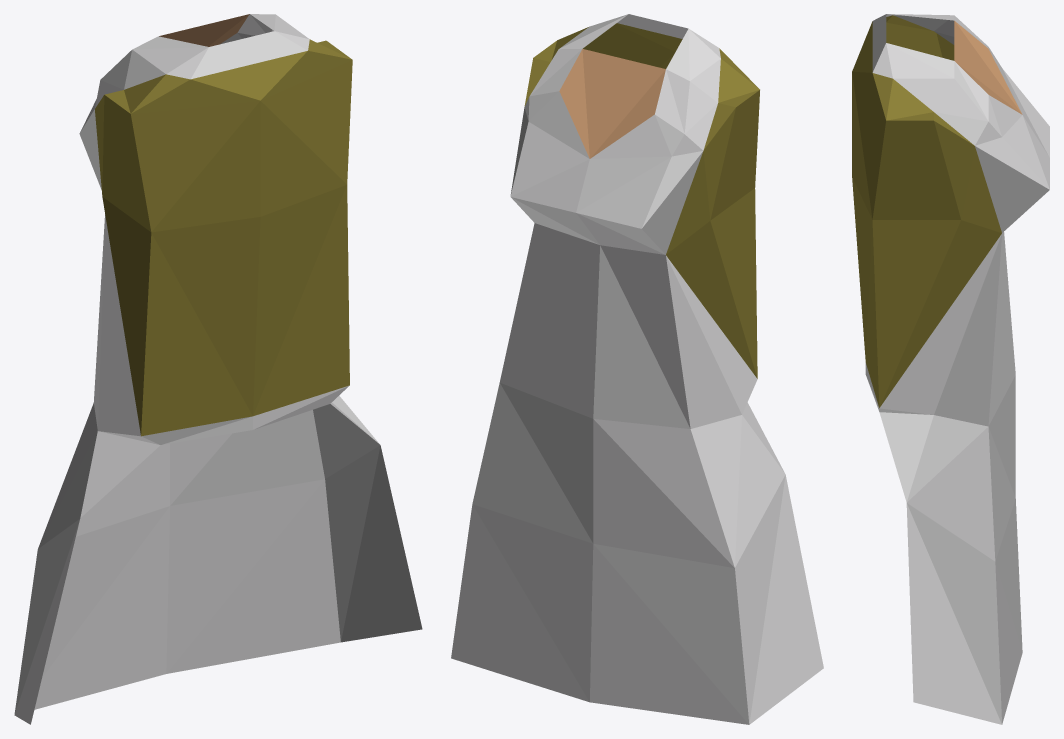
File: npc_world_tafani_1.obj
3 views of the same model, side by side, from view 1: azimuth 30°, elevation 25°; view 2: azimuth 150°, elevation 25°; view 3: azimuth 270°, elevation 25° (orthographic). The views are drawn at different scales.
Size of the model in its own units: 0.4688 by 0.7891 by 0.2266.
